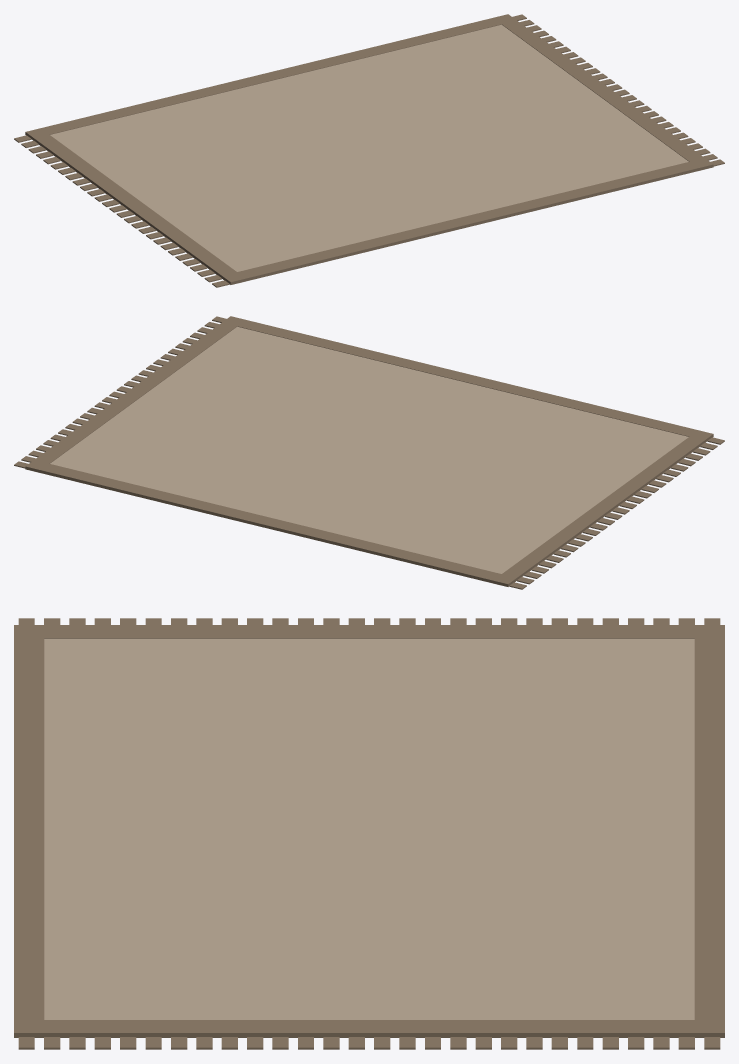
Rendered from rug.glb.
3 views of the same model, one above another, from view 1: azimuth 30°, elevation 25°; view 2: azimuth 150°, elevation 25°; view 3: azimuth 270°, elevation 25° (orthographic). The views are drawn at different scales.
Visible parts, largest first — view 1: material-0-fabric, material-1-trim; view 2: material-0-fabric, material-1-trim; view 3: material-0-fabric, material-1-trim.
Boxes of the visible parts, x1,y1,x2,y2 form: material-0-fabric: [50, 24, 688, 271]; material-1-trim: [14, 14, 724, 287]; material-0-fabric: [50, 326, 688, 573]; material-1-trim: [14, 316, 724, 589]; material-0-fabric: [44, 638, 694, 1019]; material-1-trim: [14, 618, 724, 1049].
Size of the model in its own units: 2 by 0.013 by 1.4.
